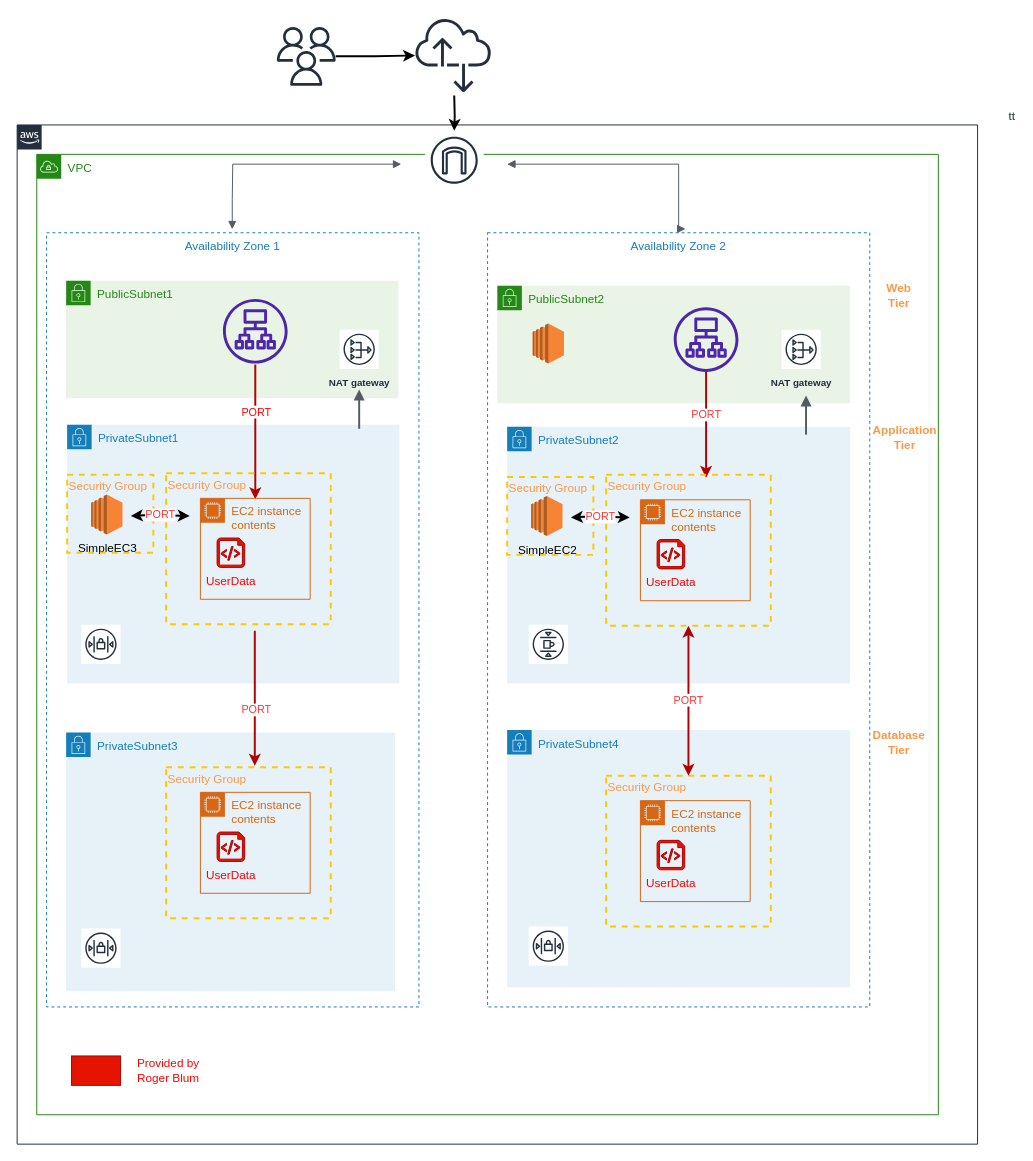
Some shapes in this 1033 by 1161 pixel diagram are drawn without their labels. The shapes that lost their labels are listed below. From the top down, each one's centre as x and y in pixels, then its label:
At pixel 305 55: "Users".
At pixel 454 160: "Internet gateway".
At pixel 548 343: "WebEC2".
At pixel 100 644: "Private1NACL".
At pixel 548 644: "Private2NACL".
At pixel 100 948: "Private3NACL".
At pixel 548 946: "Private4NACL".
